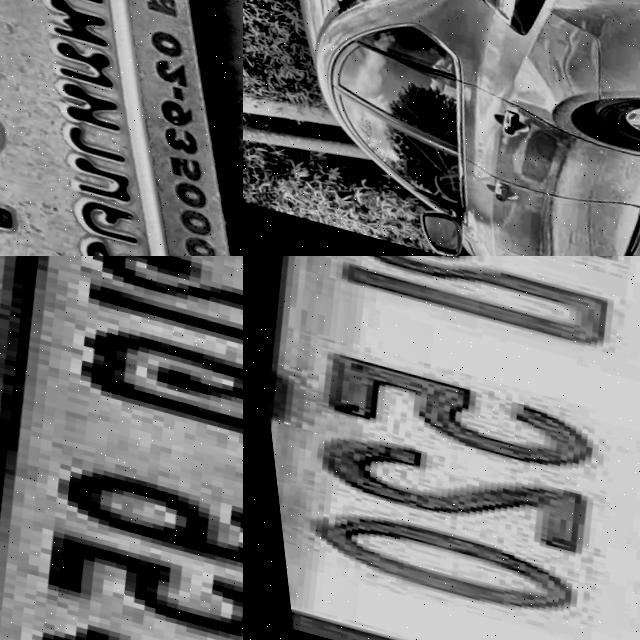license-plate: (243, 256, 640, 640), (0, 256, 243, 640), (0, 0, 243, 256)
